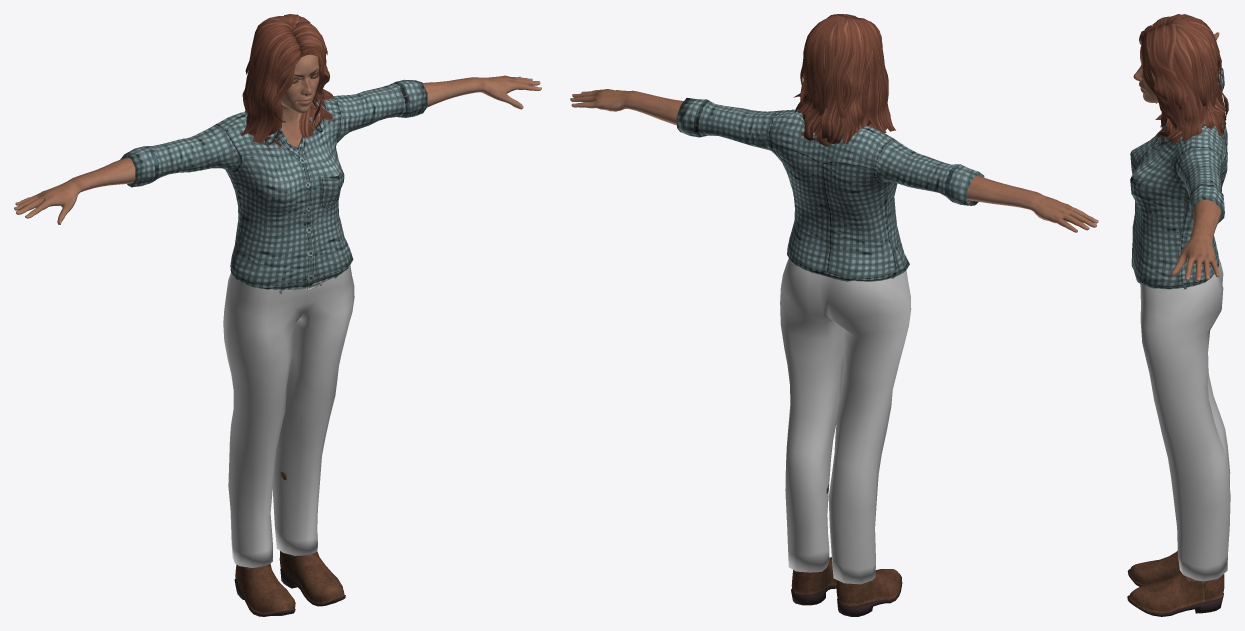
Rendered from claudia.obj.
The picture shows the model from 3 angles, left to right: view 1: azimuth 30°, elevation 25°; view 2: azimuth 150°, elevation 25°; view 3: azimuth 270°, elevation 25°; orthographic projection.
Parts seen in each view (by area): view 1: Bottoms, Tops, Hair, Body, Shoes; view 2: Bottoms, Tops, Hair, Body, Shoes; view 3: Bottoms, Tops, Hair, Shoes, Body.
Boxes of the visible parts, x1,y1,x2,y2 form: Bottoms: (223, 265, 354, 567); Tops: (120, 79, 427, 290); Hair: (240, 14, 332, 148); Body: (14, 54, 541, 224); Shoes: (234, 472, 345, 616); Bottoms: (780, 258, 911, 584); Tops: (676, 98, 984, 281); Hair: (793, 14, 895, 146); Body: (570, 89, 1098, 232); Shoes: (791, 484, 902, 616); Bottoms: (1140, 258, 1230, 581); Tops: (1130, 66, 1227, 289); Hair: (1139, 14, 1228, 145); Shoes: (1127, 551, 1224, 616); Body: (1133, 32, 1221, 281).
Bounding box in the file's own units: 171 × 181 × 29.31.
